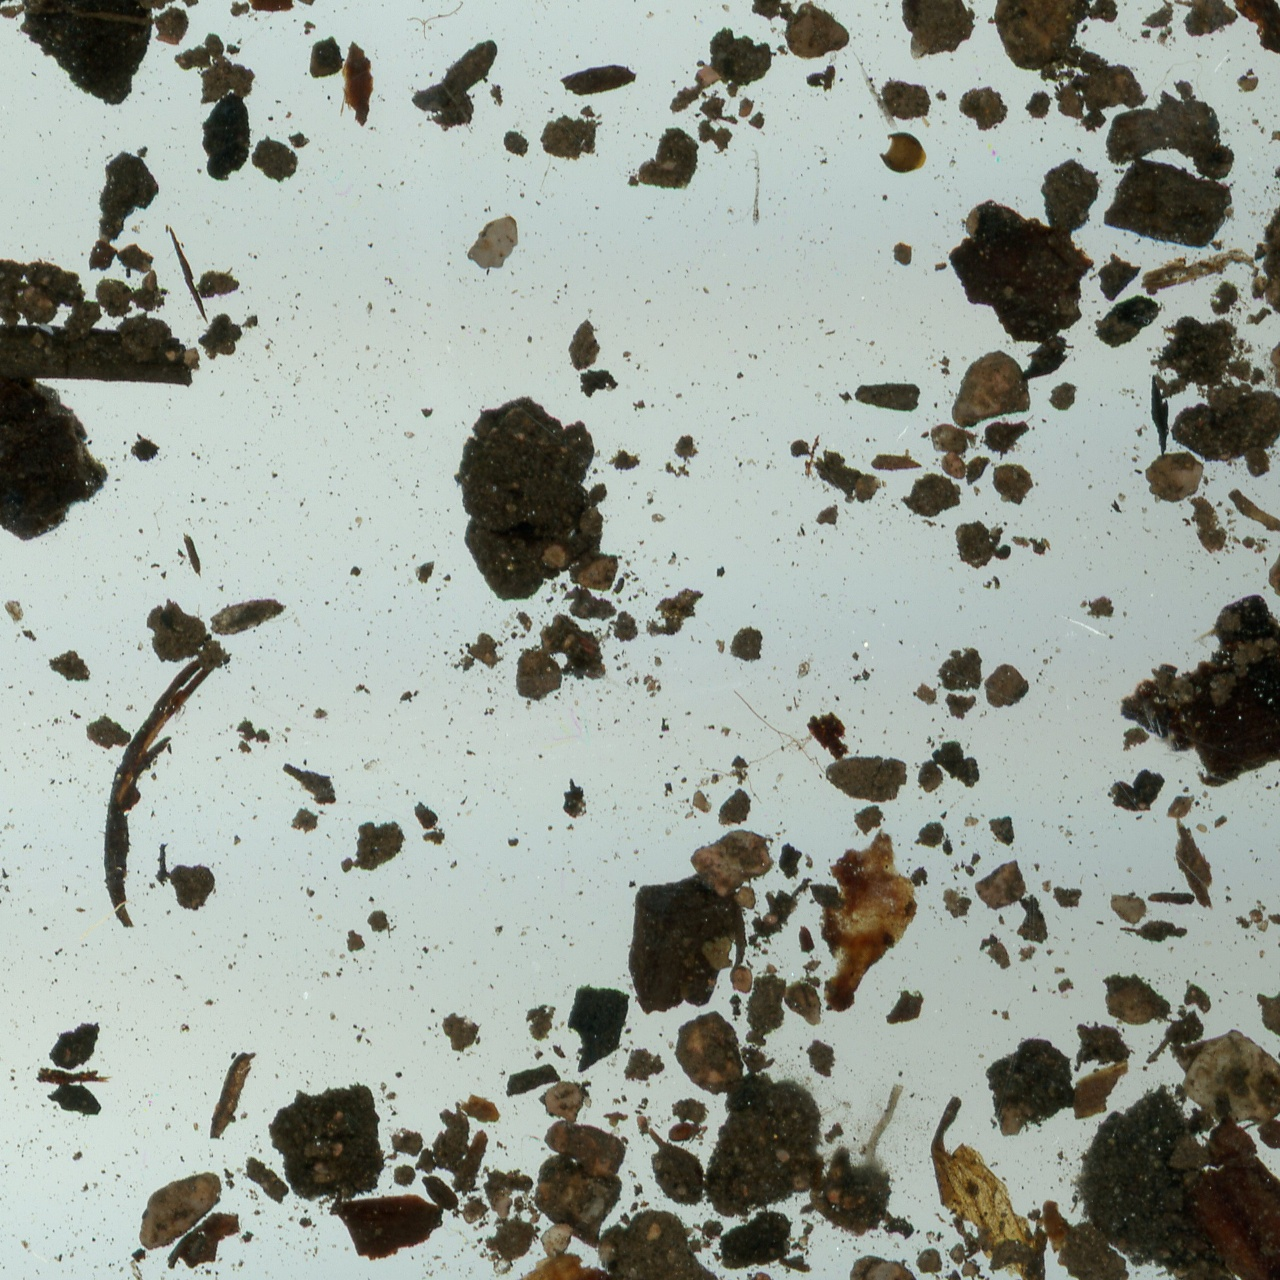arthropod: (663, 1119, 708, 1151)
